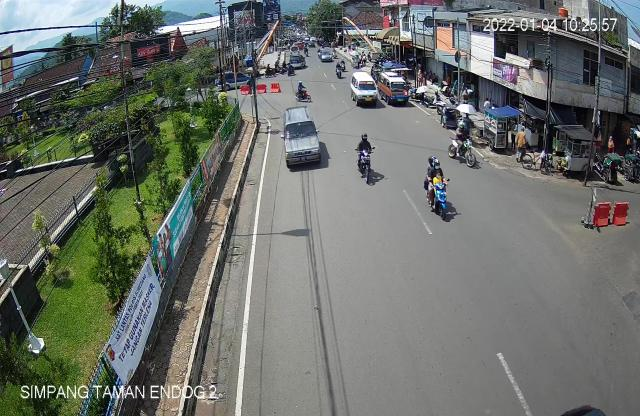Mobil: (278, 104, 331, 173), (376, 65, 416, 112), (349, 71, 384, 113)
Motor: (422, 151, 452, 221), (353, 128, 378, 187), (449, 121, 480, 168)
